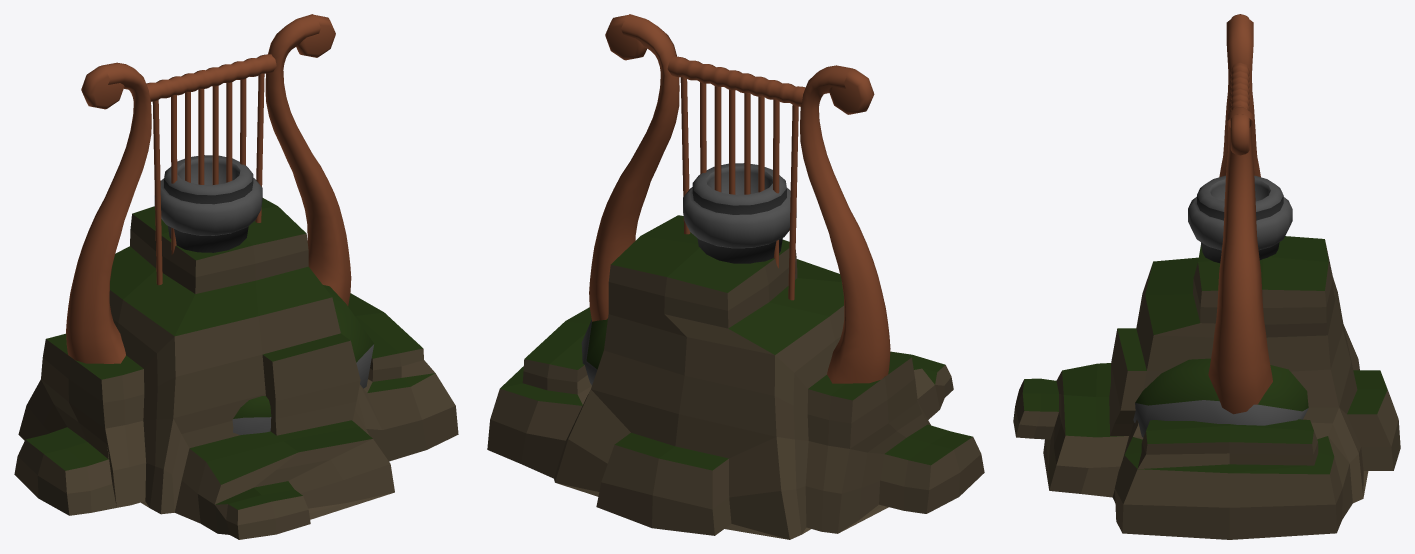
File: Ambiente 3.fbx
3 views of the same model, side by side, from view 1: azimuth 30°, elevation 25°; view 2: azimuth 150°, elevation 25°; view 3: azimuth 270°, elevation 25° (orthographic). The views are drawn at different scales.
Parts seen in each view (by area): view 1: Pedregulho, Harpa, VasoDePedra, PedraMusgo; view 2: Pedregulho, Harpa, VasoDePedra, PedraMusgo; view 3: Pedregulho, Harpa, PedraMusgo, VasoDePedra.
Part boxes in pixels (x1,y1,x2,y2): Pedregulho: [14, 198, 458, 539]; Harpa: [66, 14, 351, 363]; VasoDePedra: [154, 155, 262, 252]; PedraMusgo: [232, 285, 373, 434]; Pedregulho: [487, 215, 984, 539]; Harpa: [589, 14, 890, 383]; VasoDePedra: [683, 163, 796, 263]; PedraMusgo: [581, 318, 607, 385]; Pedregulho: [1013, 236, 1400, 539]; Harpa: [1208, 14, 1272, 414]; PedraMusgo: [1133, 358, 1308, 437]; VasoDePedra: [1188, 175, 1292, 262].
Bounding box in the file's own units: 222 × 227 × 201.
